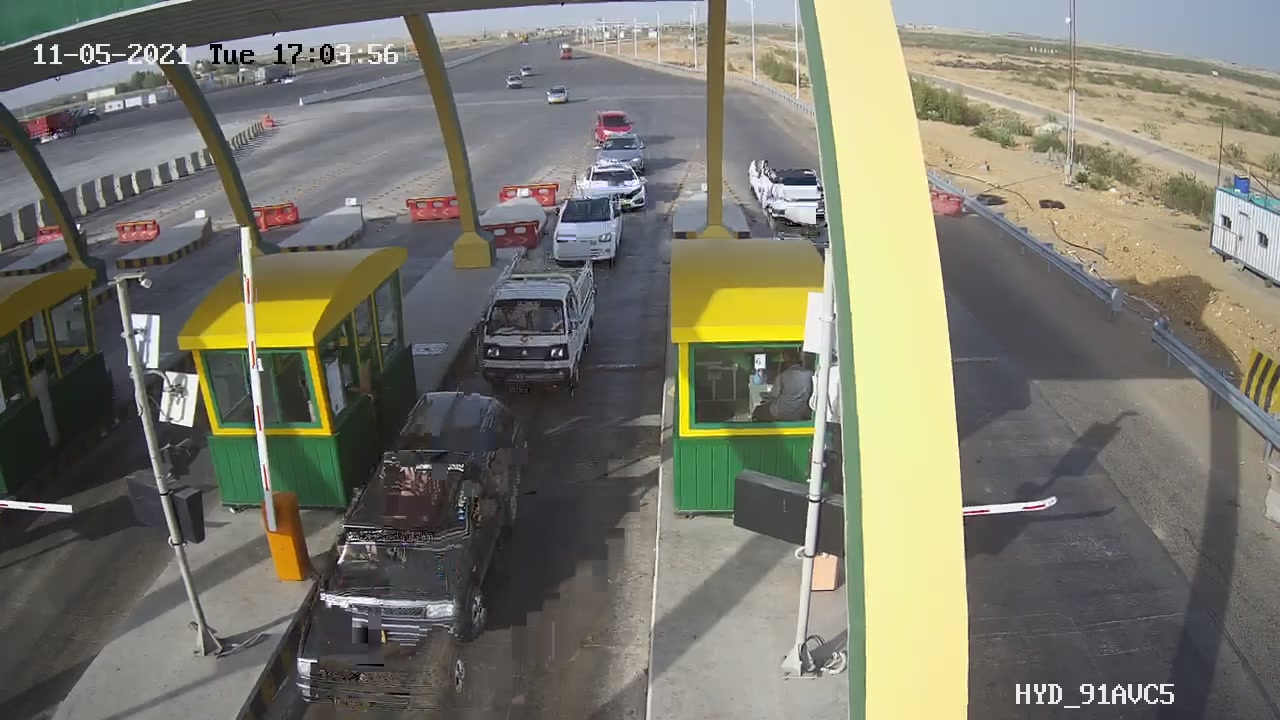F1: (465, 247, 604, 412)
